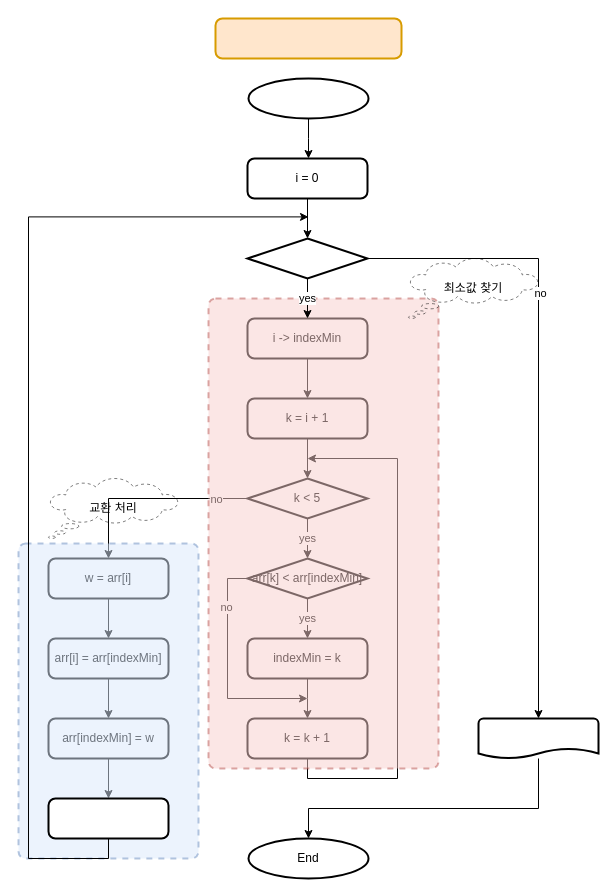
Some shapes in this 616 by 896 pixel diagram are drawn without their labels. The shapes that lost their labels are listed below. From the top down, each one's centre as x and y in pixels, then its label:
At point (308, 38): "정렬 - 단순선택법 최종".
At point (308, 98): "Start".
At point (307, 258): "i < 4".
At point (538, 738): "arr".
At point (108, 818): "i = i + 1".
